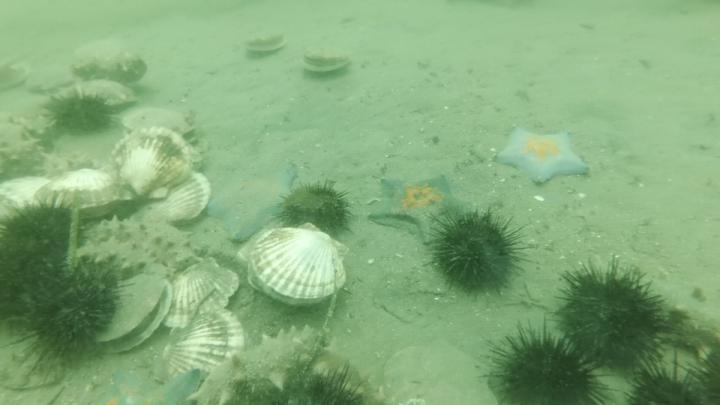echinus: (13, 253, 123, 381), (553, 258, 669, 378), (484, 318, 614, 405), (427, 205, 531, 301), (2, 194, 75, 328), (280, 179, 353, 244), (54, 94, 118, 138)
holothurian: (186, 322, 326, 405), (83, 216, 197, 268), (78, 239, 160, 274), (1, 119, 42, 179), (37, 148, 101, 182)
scallop: (247, 221, 353, 314), (94, 272, 175, 361), (106, 127, 198, 201), (156, 309, 248, 378), (166, 262, 243, 331), (37, 167, 126, 213), (144, 171, 213, 226), (117, 103, 194, 146), (48, 79, 140, 113), (298, 43, 356, 79), (22, 61, 76, 94), (242, 27, 291, 58)
starfish: (204, 156, 301, 247), (366, 174, 467, 248), (493, 119, 594, 192)
